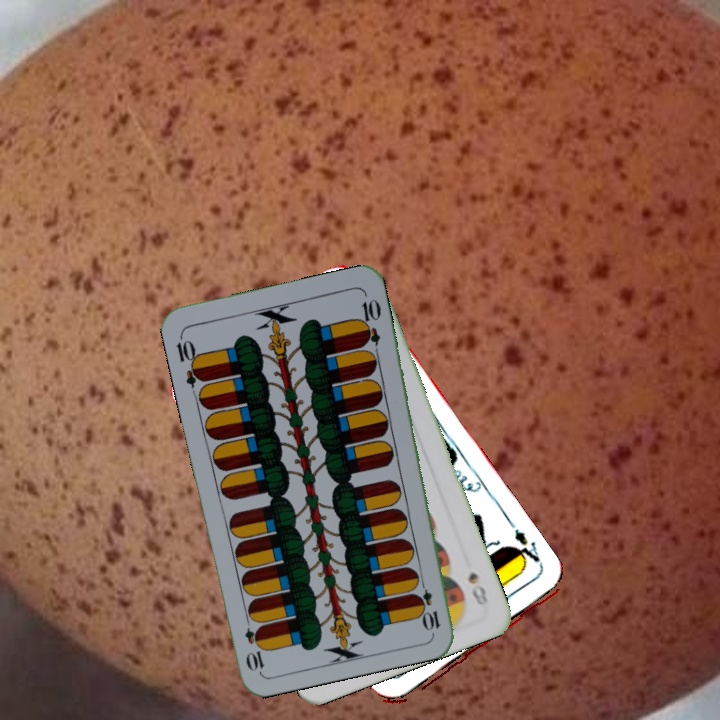E10: (172, 331, 207, 389), (414, 574, 443, 633)
EA: (507, 521, 547, 578)
S8: (464, 567, 491, 609)
